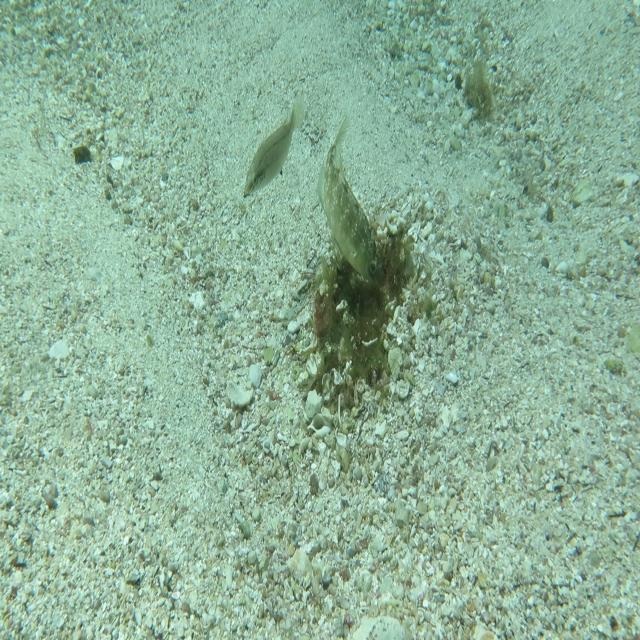NIP_CORE: (317, 113, 387, 292)
female: (242, 92, 307, 198)
nest: (295, 202, 427, 422)
vegetation: (459, 53, 494, 130), (72, 144, 92, 167)
